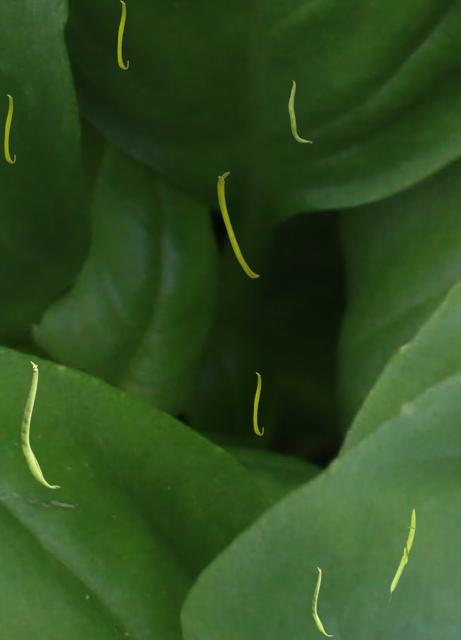french_bean: (21, 361, 59, 487), (217, 171, 258, 277), (389, 507, 415, 601), (288, 80, 311, 142), (312, 567, 332, 635), (4, 94, 14, 162), (117, 0, 127, 68), (253, 372, 262, 434)
